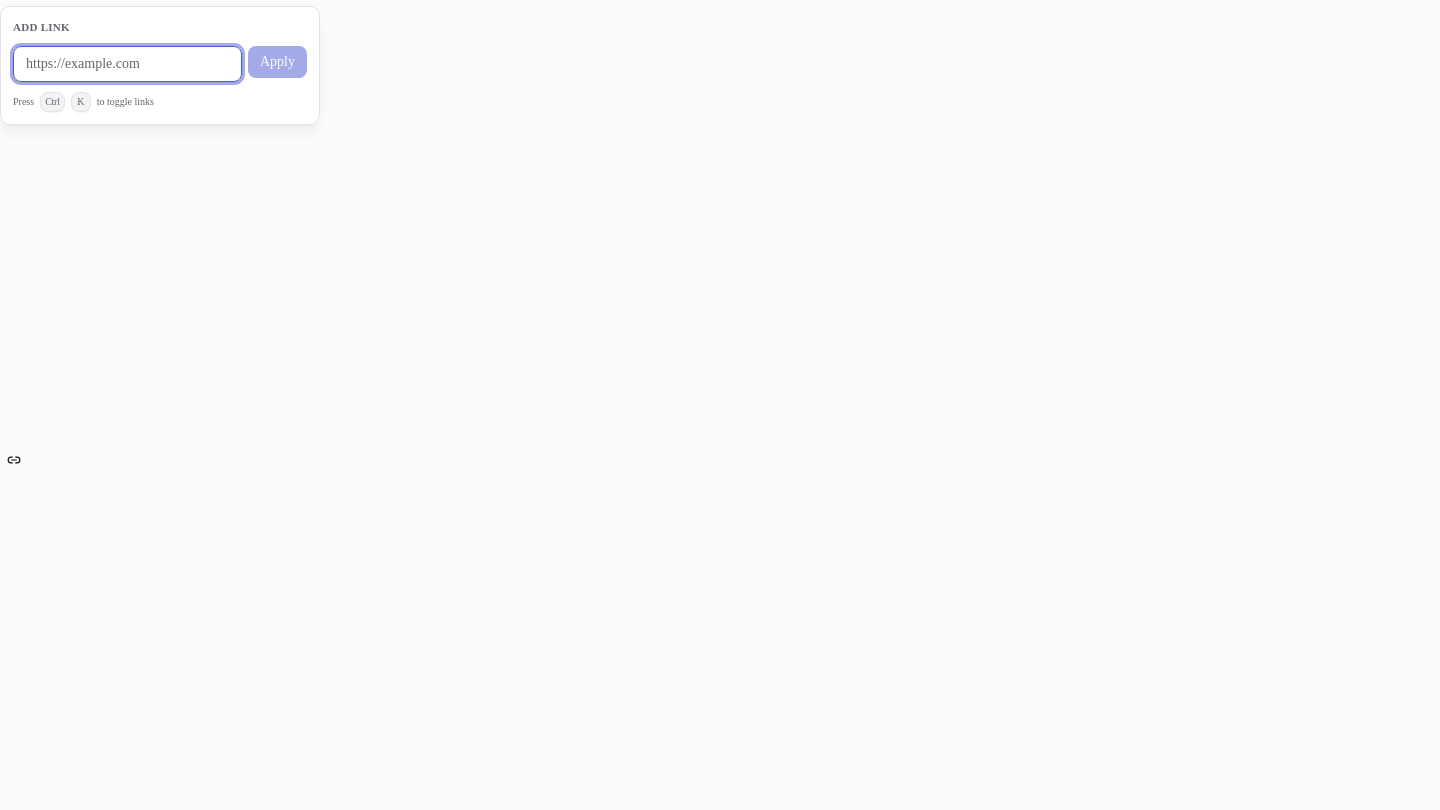
it: LinkPopover — add › refuses a script URL instead of writing it into the document
Check: the dialog is shown, box 0,6 -> 320,124
In the field with placeholder "https://example.com": (128, 64) 13,46 -> 242,82, type "javascript:alert(1)"
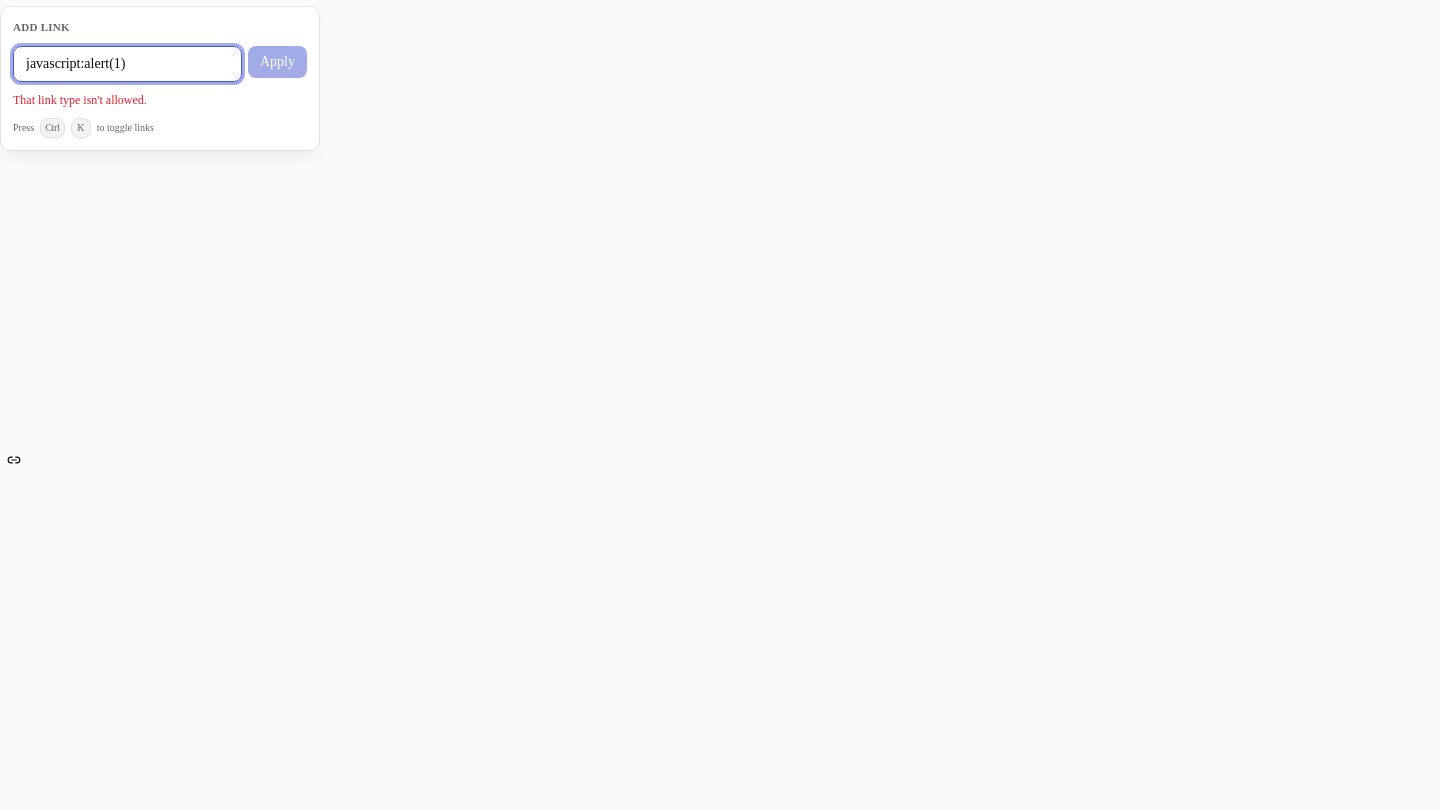
Check: the button "Apply" is disabled, box 248,46 -> 307,78
Check: the message shows "isn't allowed", box 13,92 -> 147,106
